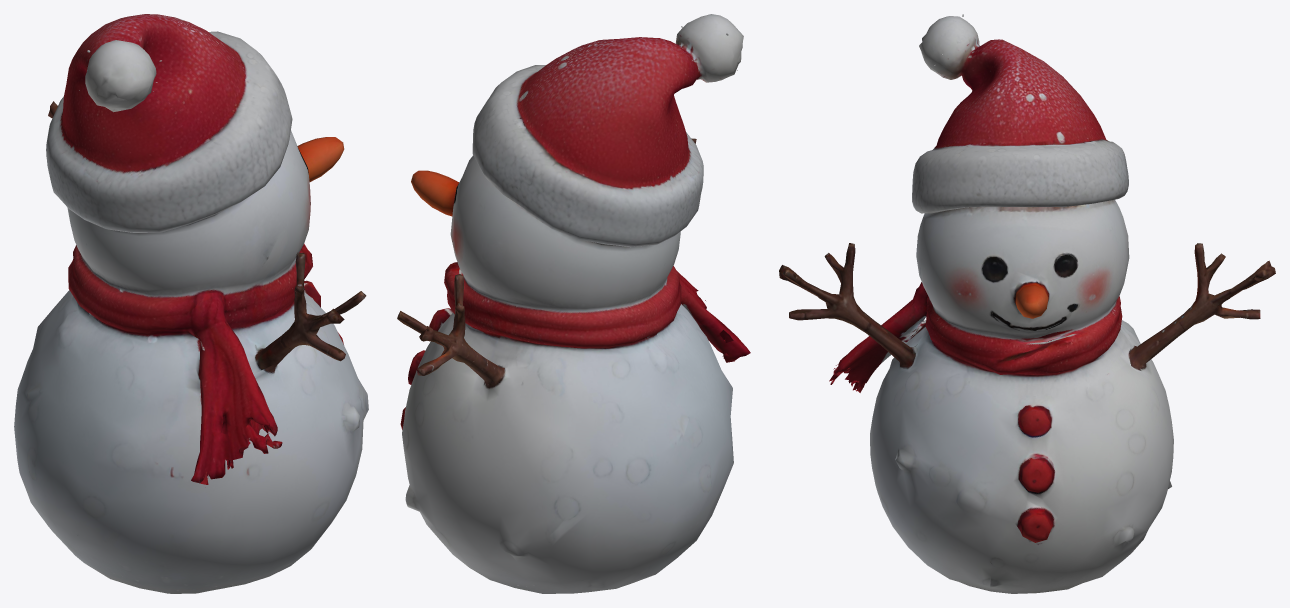
The model's file is tripo_convert_2dc459fa-8380-4737-bf53-e17a91d01941.fbx.
The picture shows the model from 3 angles, left to right: view 1: azimuth 30°, elevation 25°; view 2: azimuth 150°, elevation 25°; view 3: azimuth 270°, elevation 25°; orthographic projection. The views are drawn at different scales.
Visible parts, largest first — view 1: tripo_node_2dc459fa; view 2: tripo_node_2dc459fa; view 3: tripo_node_2dc459fa.
Part boxes in pixels (bbox=[...]): tripo_node_2dc459fa: bbox=[14, 14, 368, 593]; tripo_node_2dc459fa: bbox=[397, 14, 750, 593]; tripo_node_2dc459fa: bbox=[779, 14, 1275, 593].
Size of the model in its own units: 56.58 by 98.63 by 88.56.
1 material, 1 textured.
